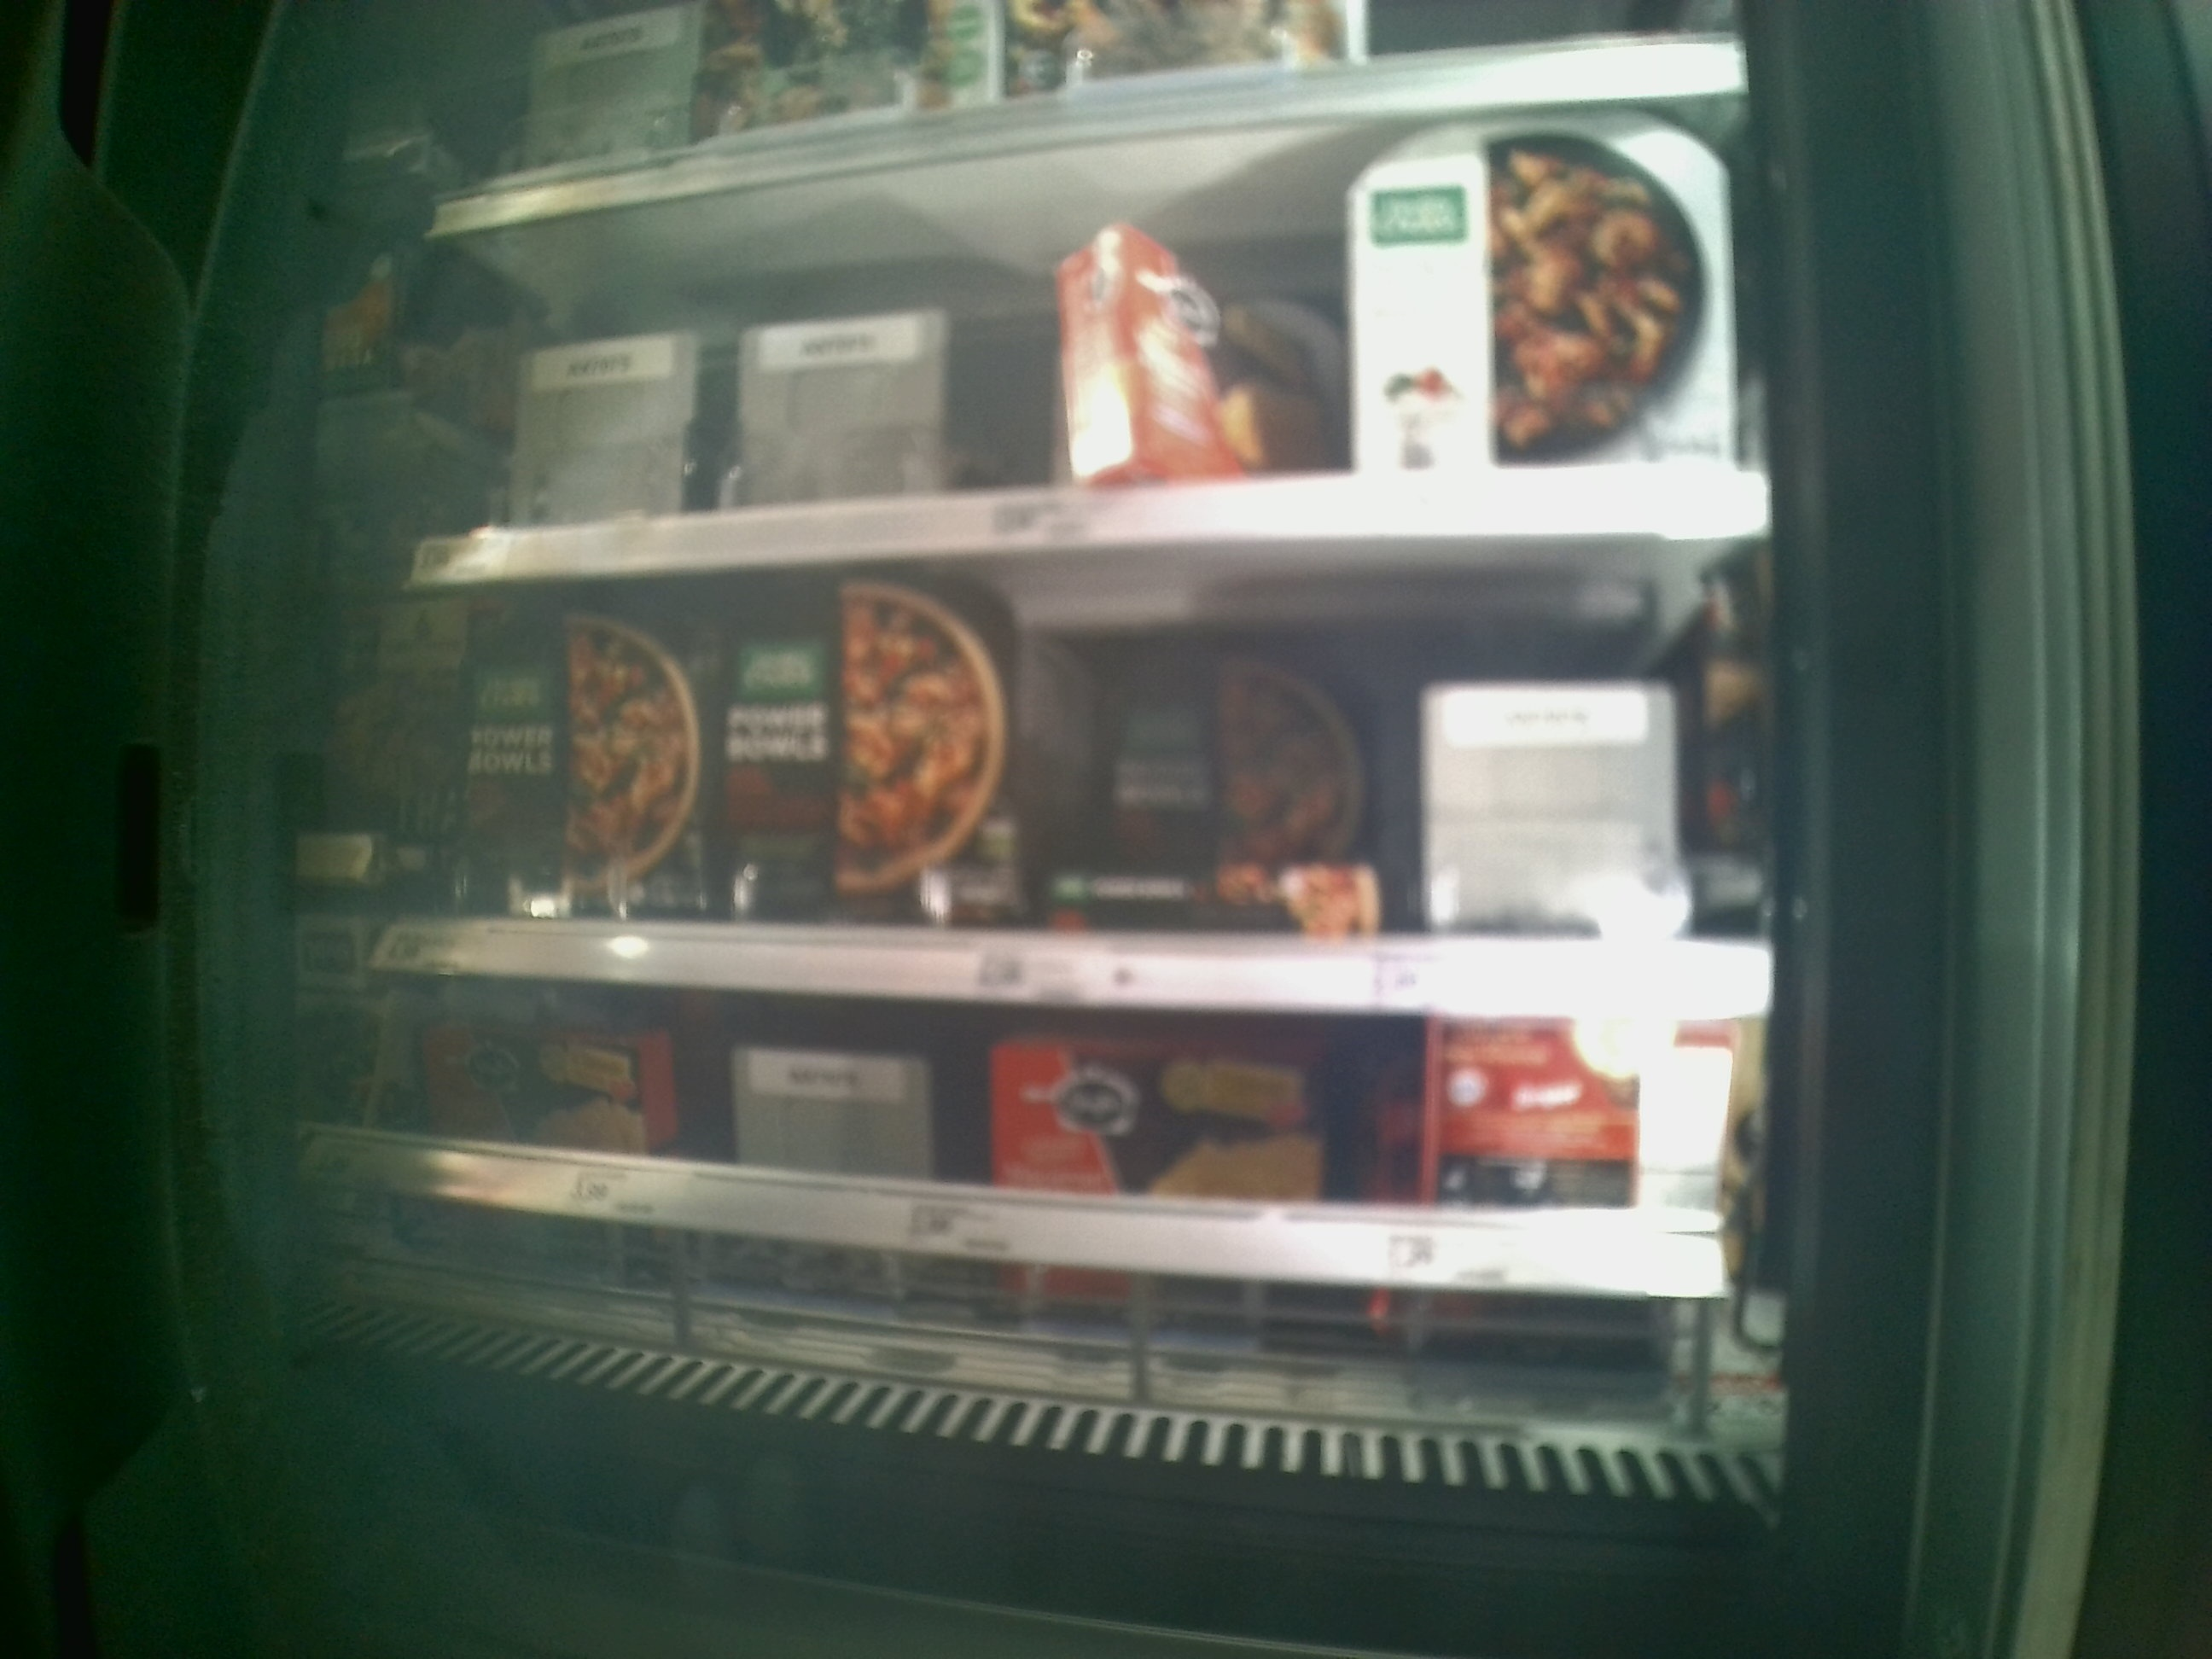shelf: (409, 85, 1764, 586), (341, 967, 1757, 1434), (380, 551, 1782, 1018)
